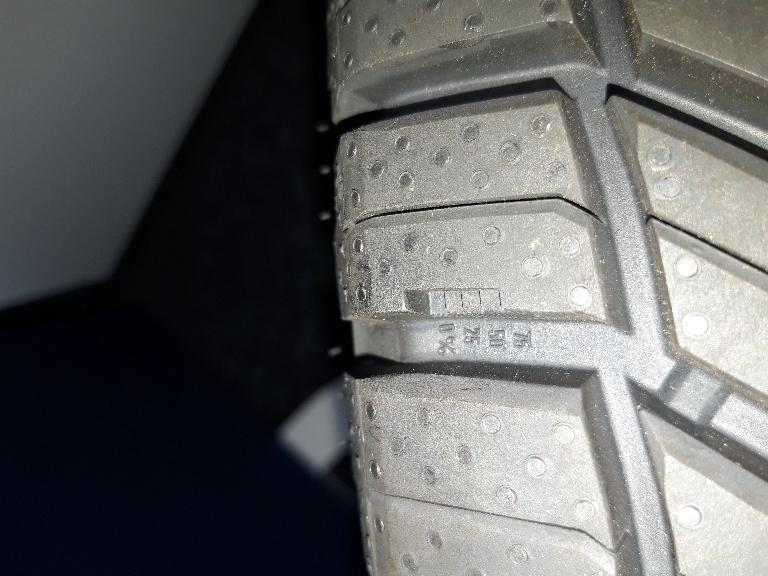temoin:100: (400, 285, 525, 326)
